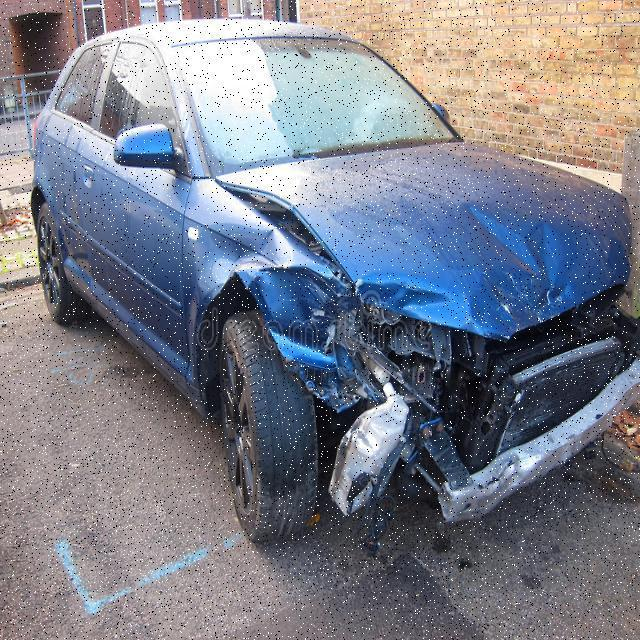bonnet-dent: (346, 140, 640, 323)
fender-dent: (190, 230, 340, 390)
